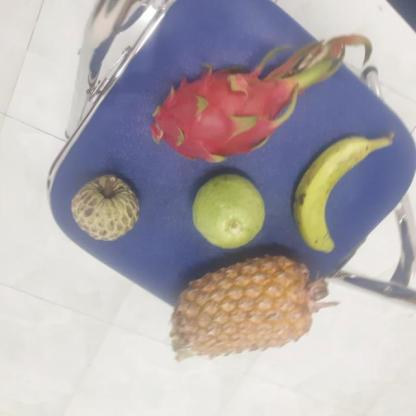annona: (66, 172, 138, 241)
banana: (290, 133, 372, 251)
guava: (189, 173, 265, 249)
pineapple: (172, 250, 314, 358)
pitaya: (141, 65, 296, 161)
